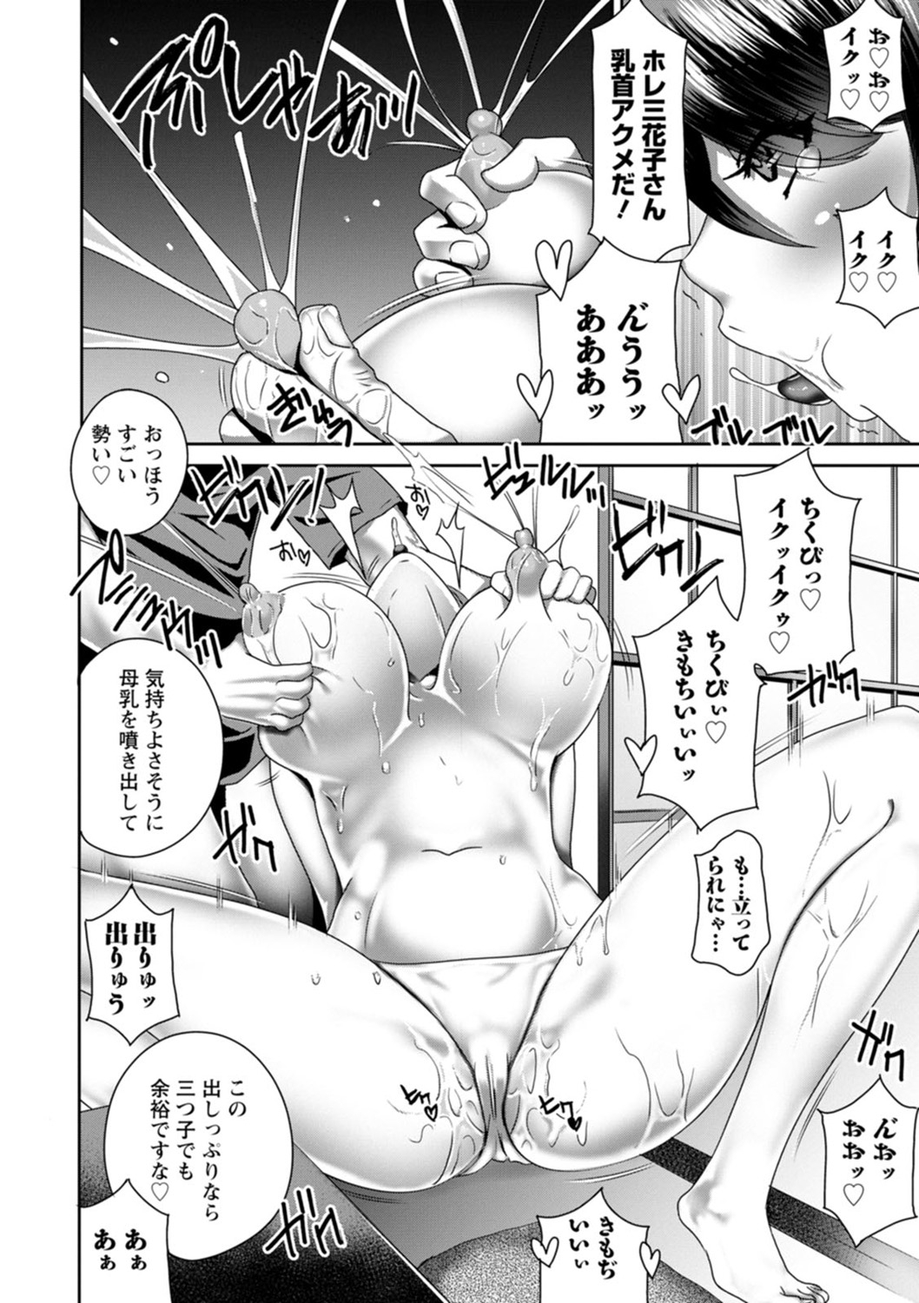text_region: (670, 468, 835, 792), (145, 1072, 252, 1224), (600, 38, 681, 231), (105, 661, 178, 838), (567, 292, 657, 429), (840, 1110, 907, 1218), (87, 418, 168, 507), (700, 856, 757, 958), (102, 916, 158, 1019), (838, 26, 899, 116), (565, 1214, 624, 1289), (845, 224, 901, 297), (92, 1228, 154, 1280)
